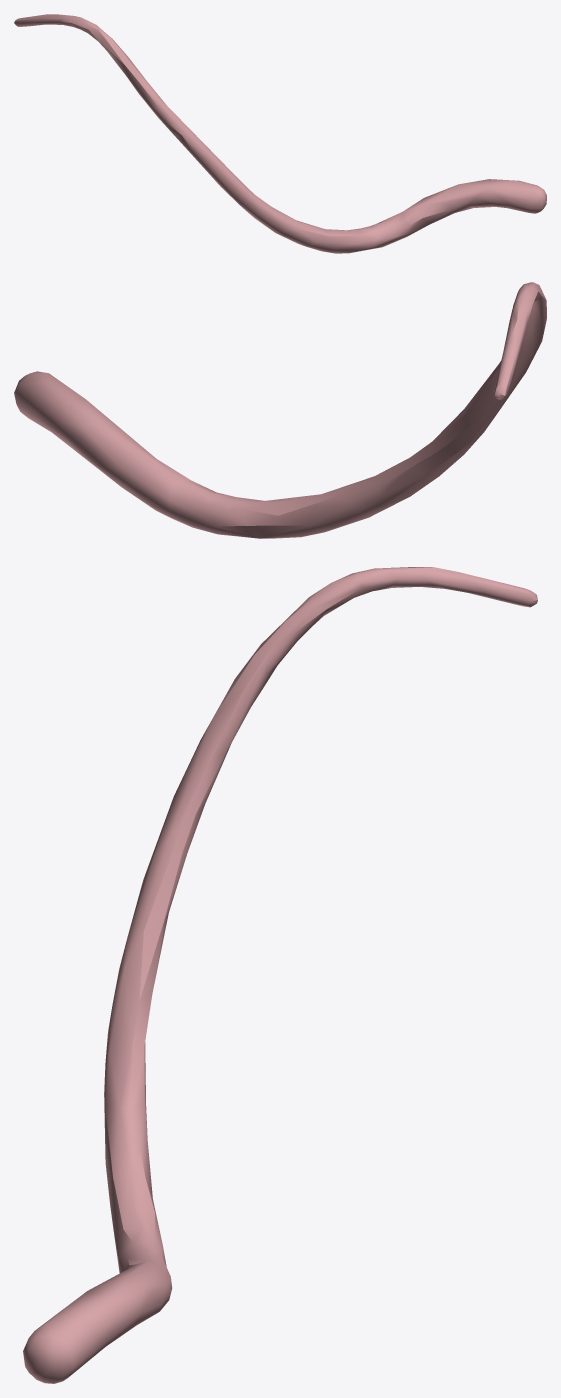
File: fma71885_fj3104.glb
3 renders of one model, top to bottom at view 1: azimuth 30°, elevation 25°; view 2: azimuth 150°, elevation 25°; view 3: azimuth 270°, elevation 25°, orthographic. The views are drawn at different scales.
Parts seen in each view (by area): view 1: FMA71885_FJ3104; view 2: FMA71885_FJ3104; view 3: FMA71885_FJ3104.
Part boxes in pixels (x1,y1,x2,y2): FMA71885_FJ3104: (14,14,546,253); FMA71885_FJ3104: (14,282,546,538); FMA71885_FJ3104: (23,567,537,1383).
Size of the model in its own units: 0.0311 by 0.0177 by 0.0169.
